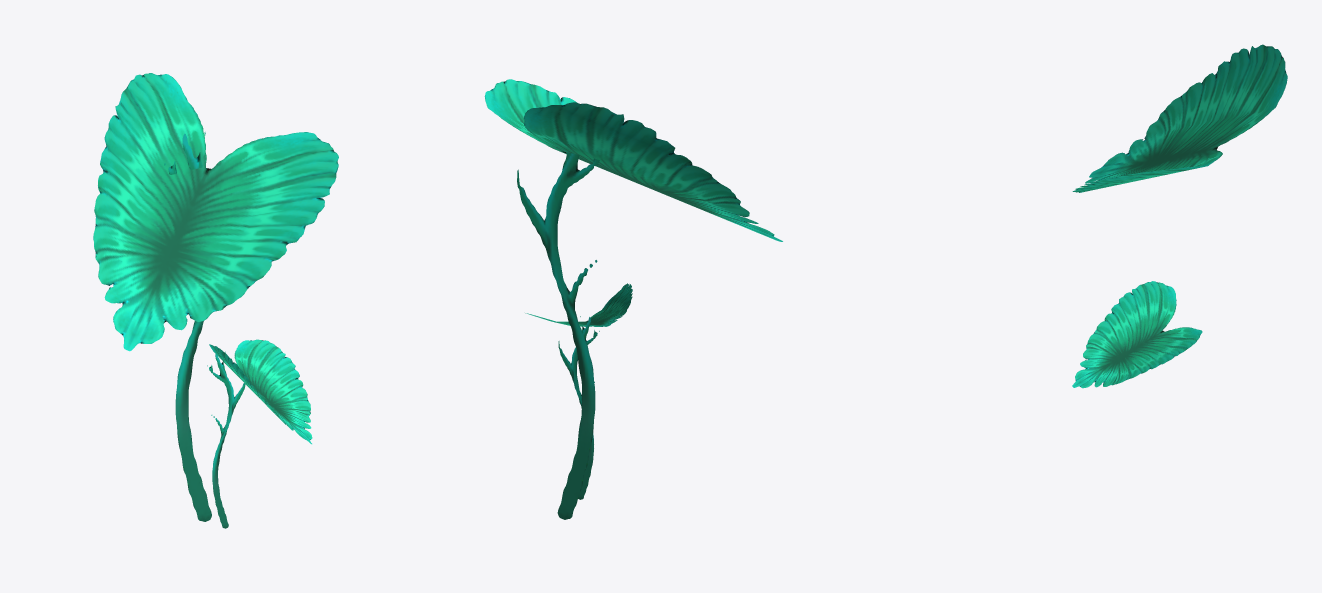
The model's file is BigLeaf_02.fbx.
The picture shows the model from 3 angles, left to right: view 1: azimuth 30°, elevation 25°; view 2: azimuth 150°, elevation 25°; view 3: azimuth 270°, elevation 25°; orthographic projection. The views are drawn at different scales.
Visible parts, largest first — view 1: Green Stem005; view 2: Green Stem005; view 3: Green Stem005.
Boxes of the visible parts, x1,y1,x2,y2 form: Green Stem005: [93, 73, 338, 528]; Green Stem005: [484, 79, 782, 519]; Green Stem005: [1072, 44, 1287, 388].
Bounding box in the file's own units: 25.39 × 30.45 × 21.86.
